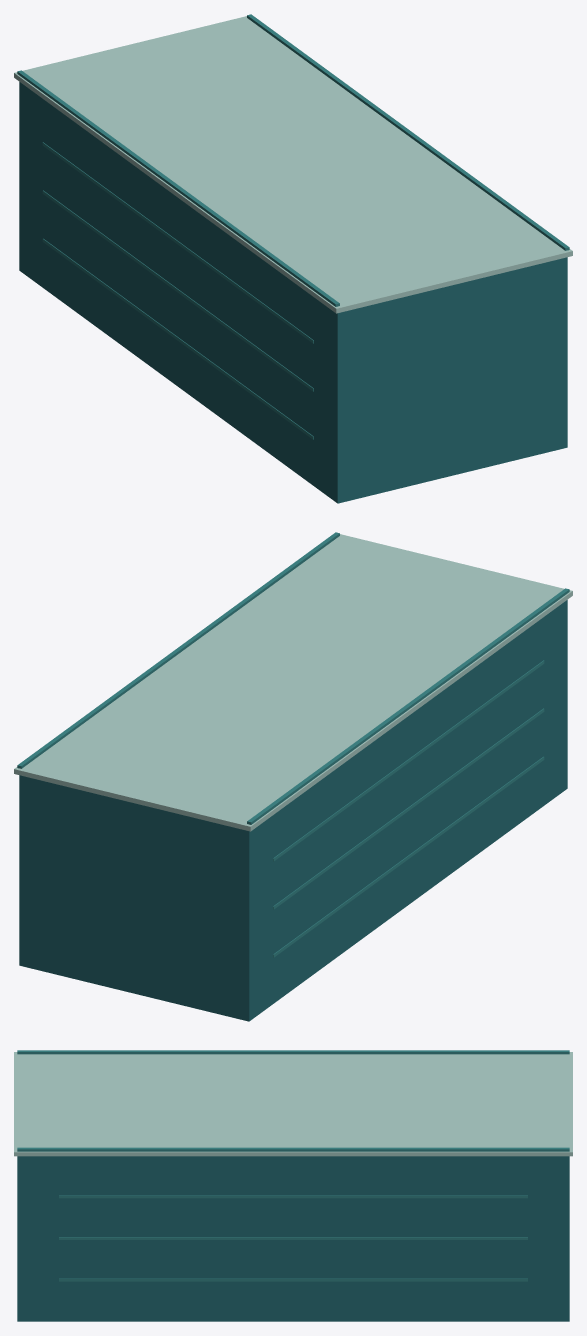
The model's file is roof_narrow.glb.
3 views of the same model, one above another, from view 1: azimuth 30°, elevation 25°; view 2: azimuth 150°, elevation 25°; view 3: azimuth 270°, elevation 25° (orthographic). The views are drawn at different scales.
Parts seen in each view (by area): view 1: roof_narrow; view 2: roof_narrow; view 3: roof_narrow.
Part boxes in pixels (x1,y1,x2,y2): roof_narrow: (14, 14, 572, 503); roof_narrow: (14, 532, 572, 1021); roof_narrow: (14, 1050, 572, 1321).
Bounding box in the file's own units: 10.3 × 8.31 × 24.3.
